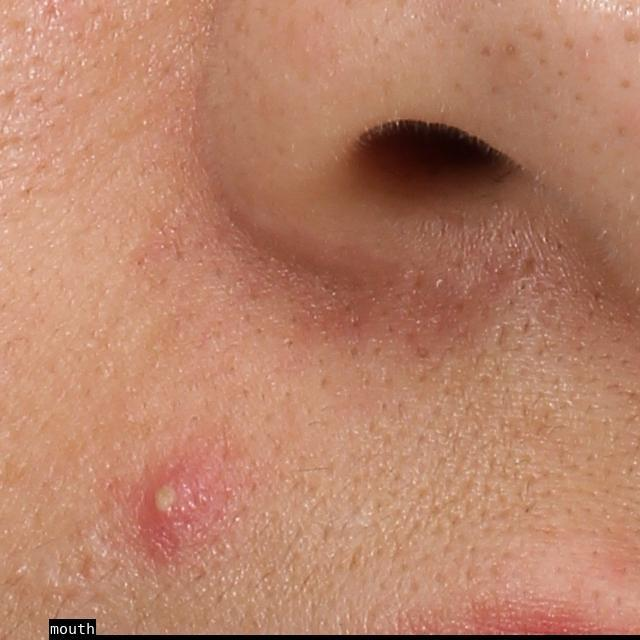atrophic_scar: (77, 546, 97, 582)
pustule: (134, 451, 224, 553)
